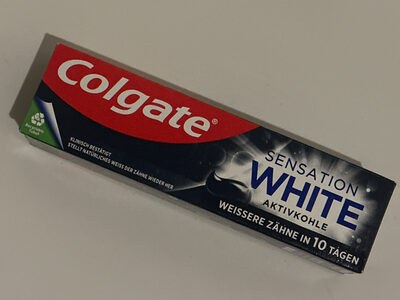Sensation White: (20, 15, 380, 285)
